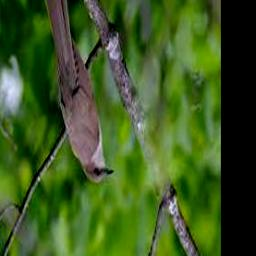Cuckoo: (43, 0, 114, 182)
